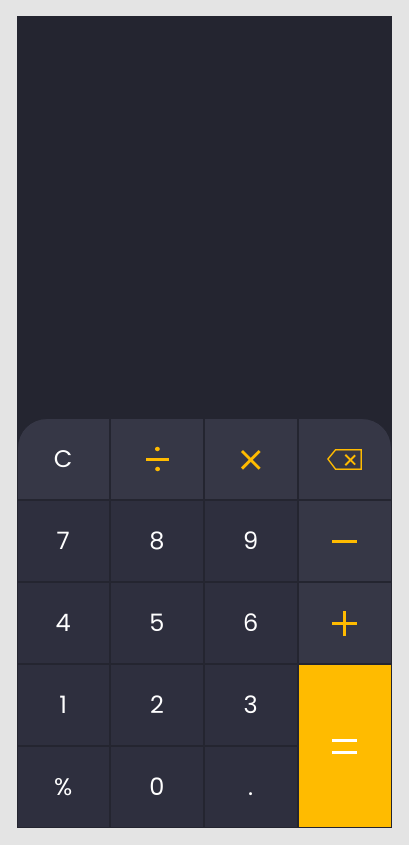
it: Calculator renders correctly the result › 5 % 3 = 2
Click the button with test id "button-number-5": point(157, 623) [110,582,204,664]
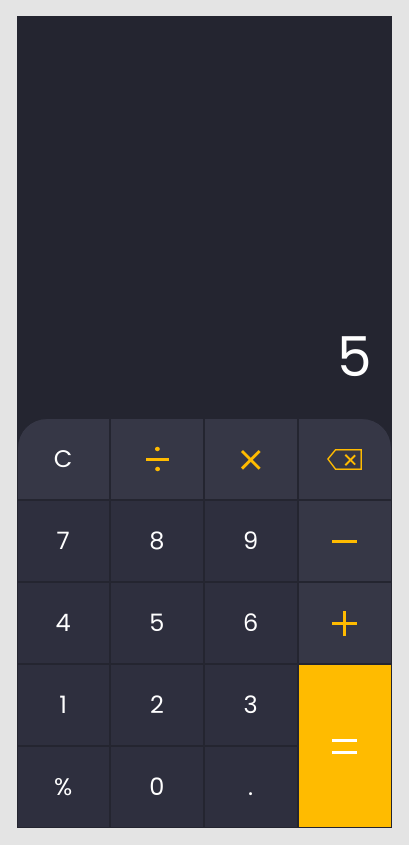
Click the button with test id "button-percent": point(63, 787) [16,746,110,828]
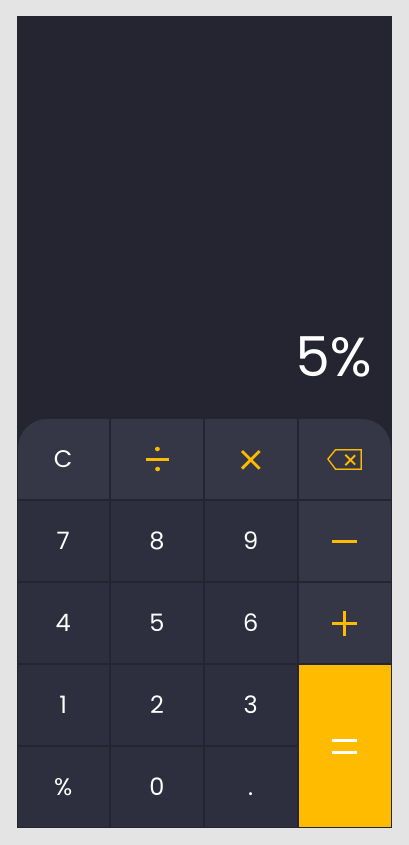
Click the button with test id "button-number-3": point(251, 705) [204,664,298,746]
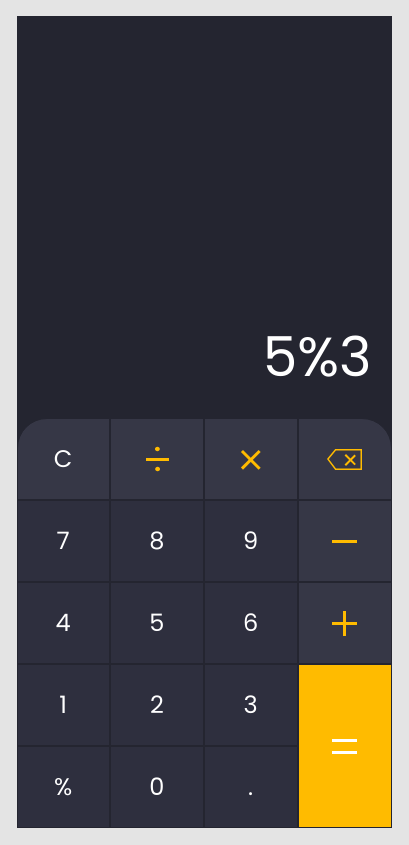
Click the button with test id "button-equals": point(345, 746) [298,664,392,828]
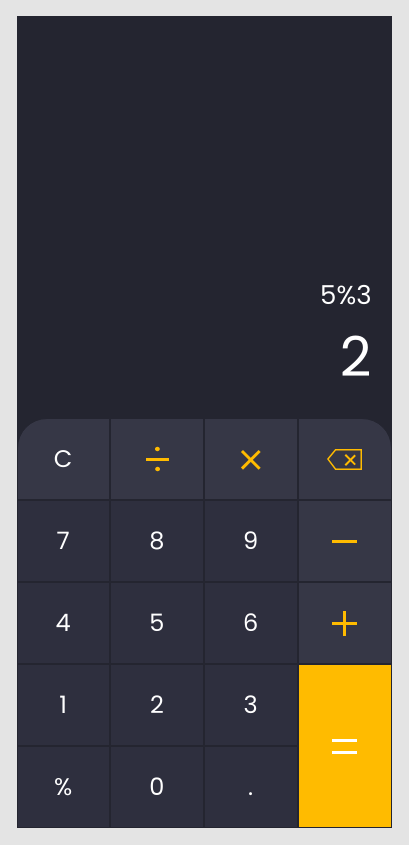
Check: the text with test id "display__result" reads "2", box [340,318,372,395]
